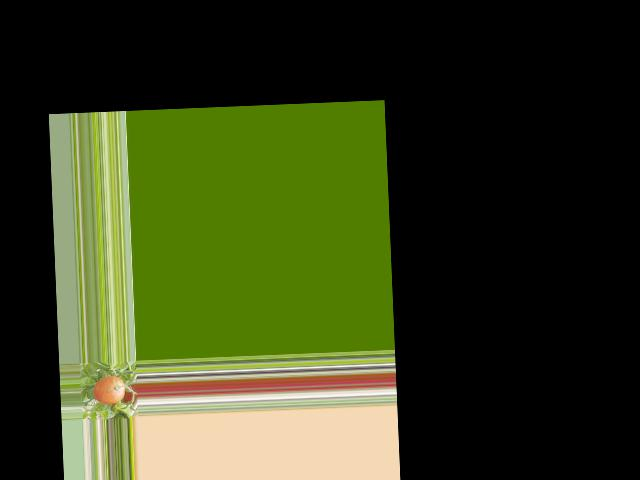tomato: (93, 375, 125, 404)
